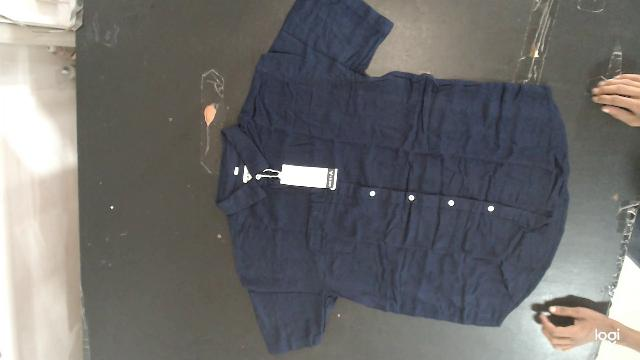new-garment: (216, 0, 569, 353)
